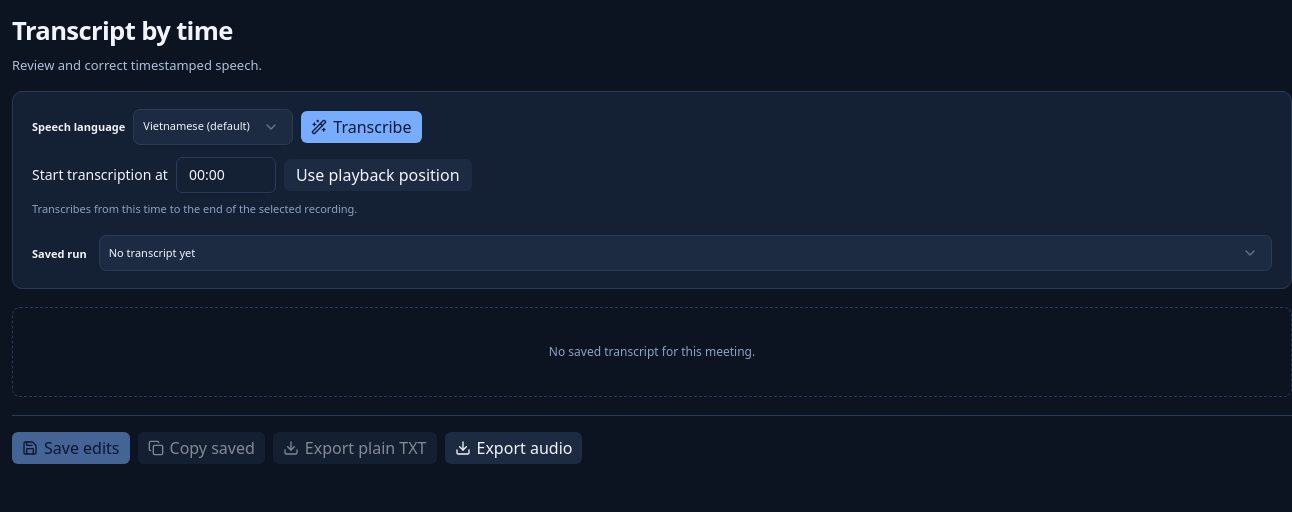
Scenario: starts at the selected playhead or defaults to the beginning of the selected meeting
Expected: the button "Transcribe" is enabled, [301,110,422,142]
Click the button "Use playback position" at [378, 174], box [284,158,472,190]
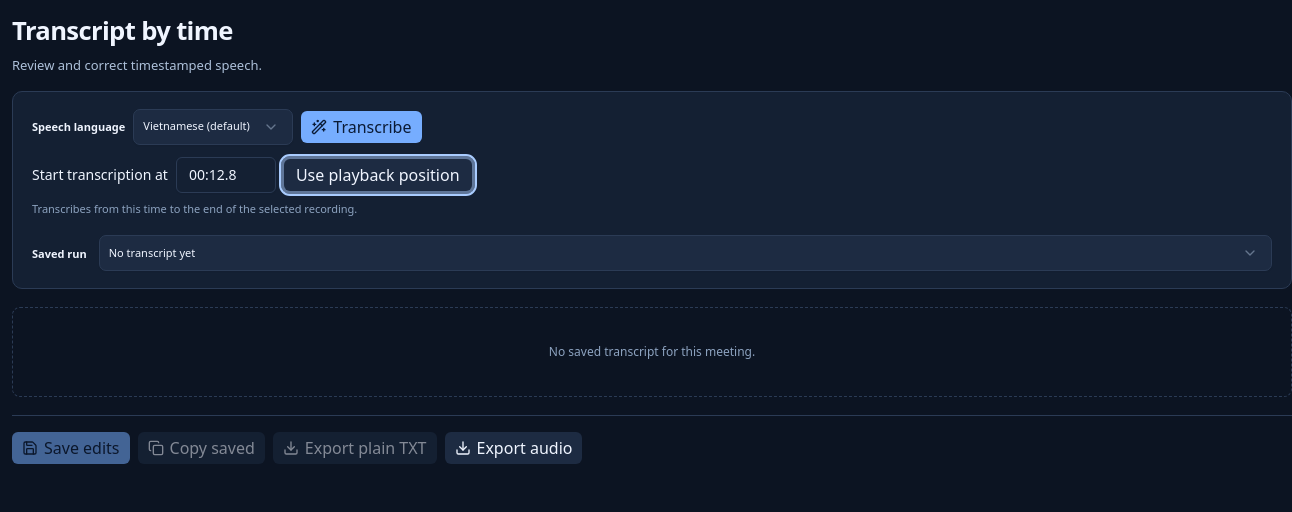
Expected: the field labelled "Start transcription at" holds "00:12.8", [176,156,276,192]
Click the button "Transcribe" at [361, 126], box [301,110,422,142]
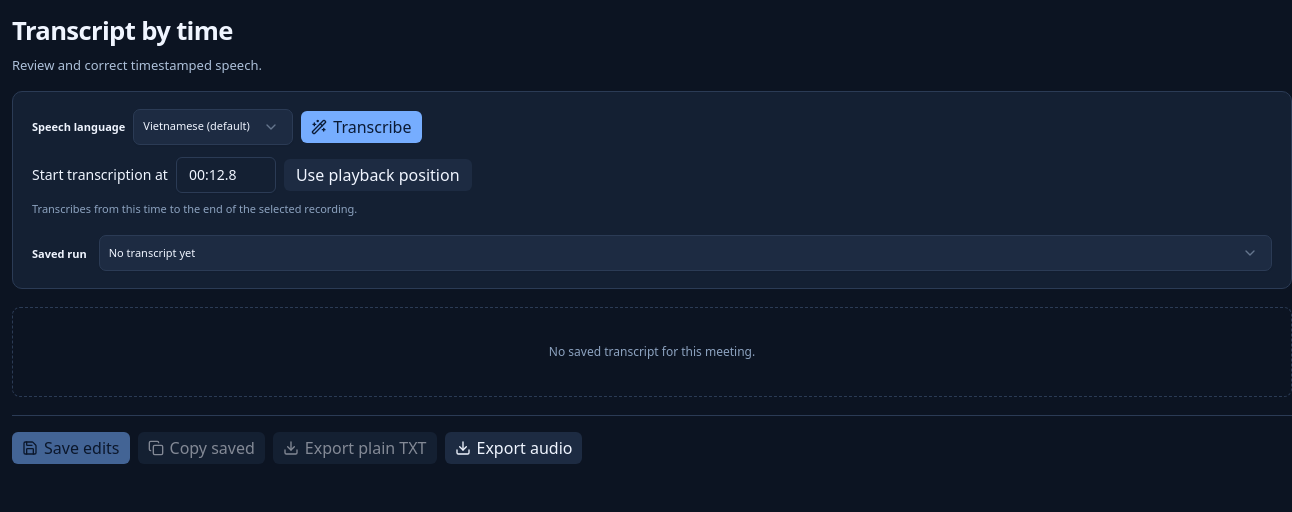
Clear the field labelled "Start transcription at" at [226, 174], box [176,156,276,192]
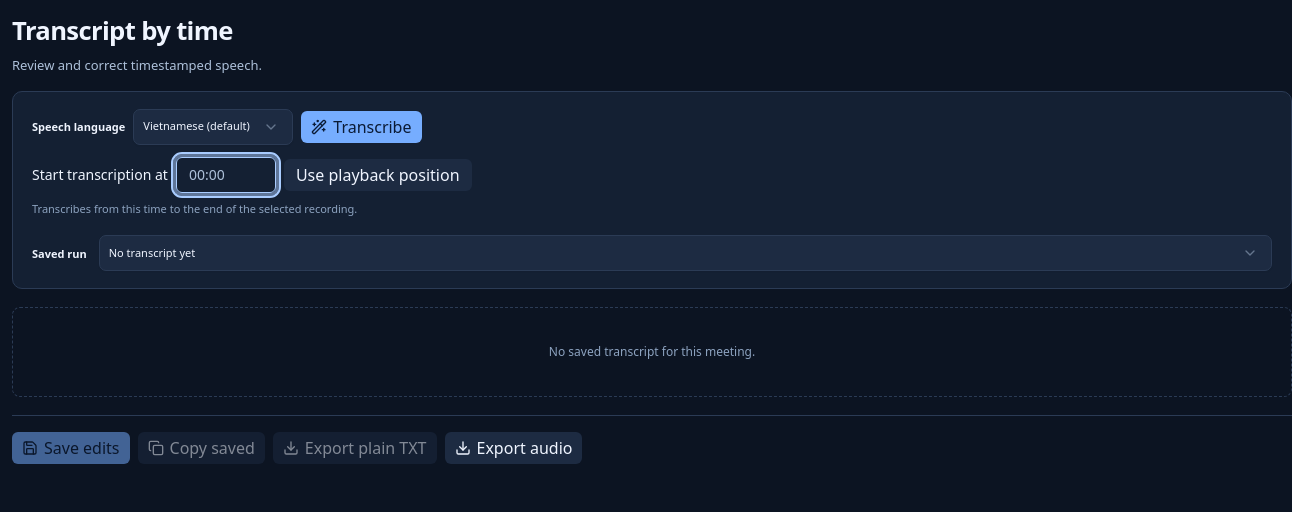
Click the button "Transcribe" at [361, 126], box [301,110,422,142]
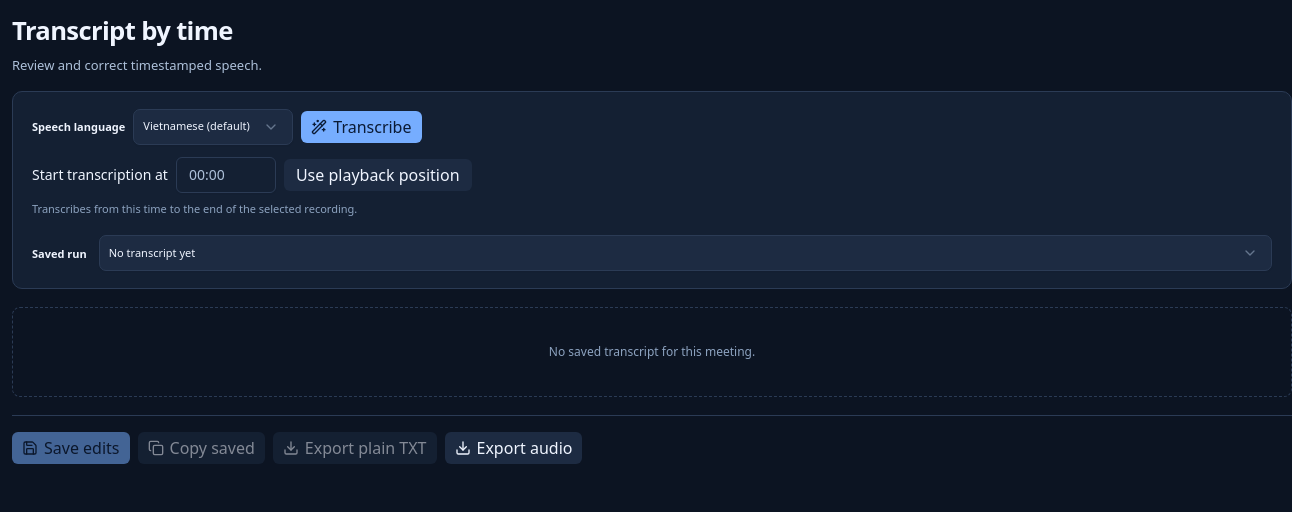
Type "01:05" into the field labelled "Start transcription at" at [226, 174], box [176,156,276,192]
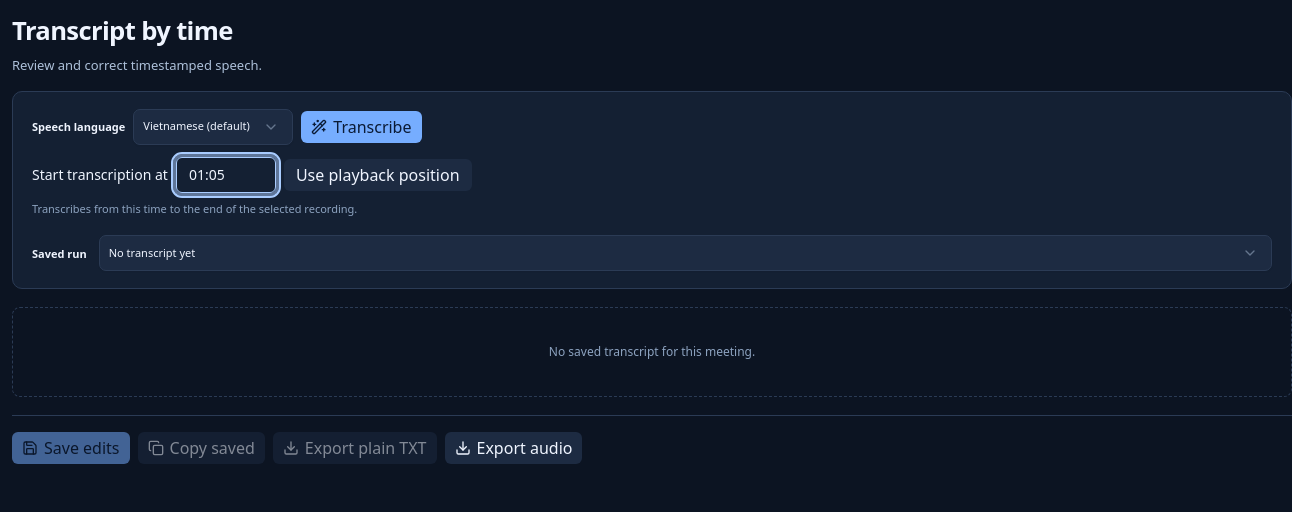
Click the button "Transcribe" at [361, 126], box [301,110,422,142]
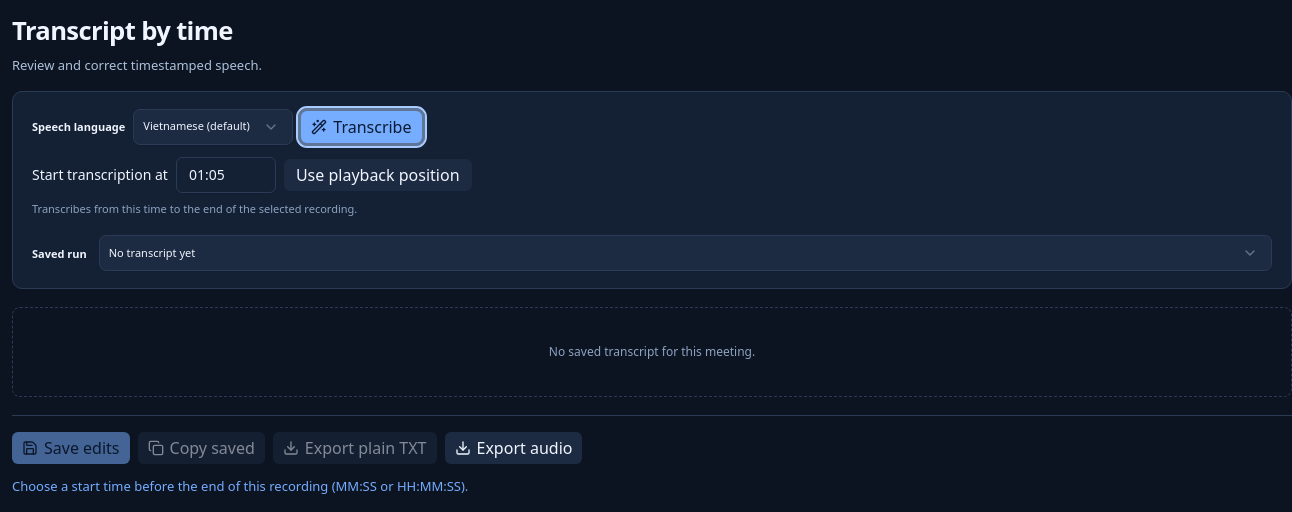
Expected: the text "Choose a start time before the end of this recording (MM:SS or HH:MM:SS)." is shown, [12,477,468,495]
